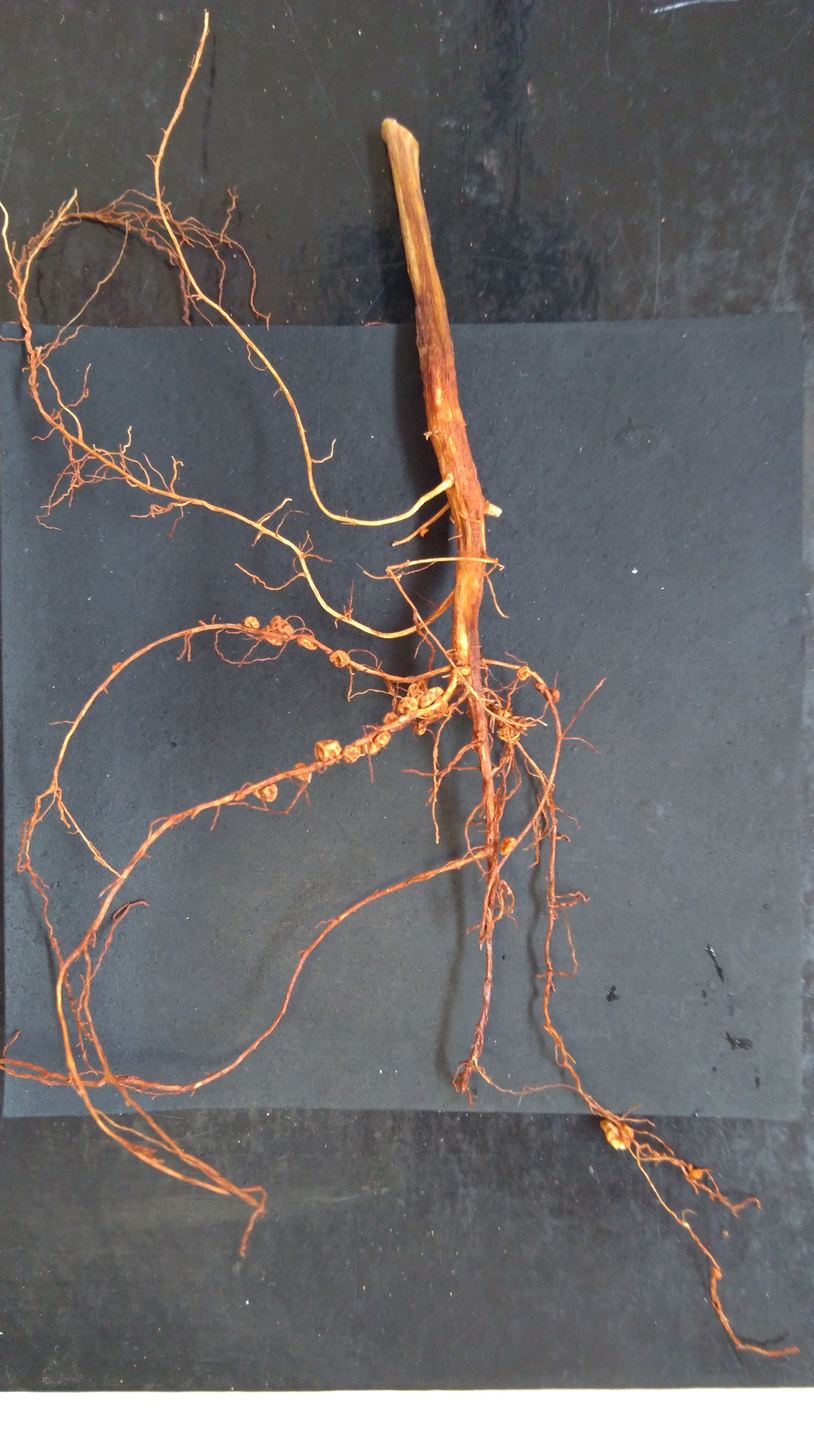nodule: (599, 1115, 636, 1155), (312, 737, 343, 763), (419, 685, 444, 709), (253, 783, 281, 804), (268, 614, 295, 635), (292, 762, 314, 784), (328, 648, 351, 669), (395, 696, 419, 716), (495, 726, 520, 744), (296, 633, 318, 652), (372, 730, 392, 750), (342, 745, 361, 765), (499, 836, 517, 857), (405, 682, 424, 701), (495, 706, 514, 725), (411, 719, 429, 736), (510, 715, 528, 732), (243, 615, 262, 631), (543, 688, 561, 704), (264, 634, 285, 646), (362, 742, 381, 755), (516, 665, 531, 681), (382, 711, 400, 724), (532, 681, 547, 694)
